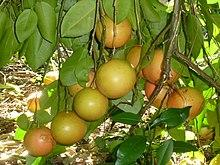Healthy Citrus: (60, 0, 98, 37), (26, 32, 52, 72), (119, 137, 147, 165), (14, 9, 37, 42), (159, 107, 193, 128), (185, 13, 201, 57), (154, 140, 174, 164), (171, 142, 199, 152)
